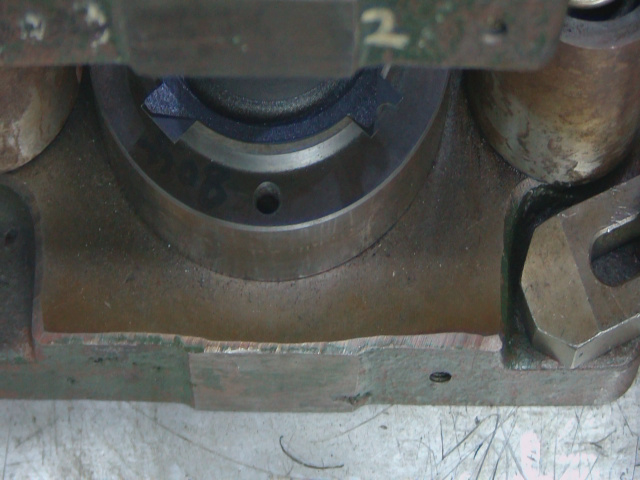NG: (349, 84, 409, 147)
